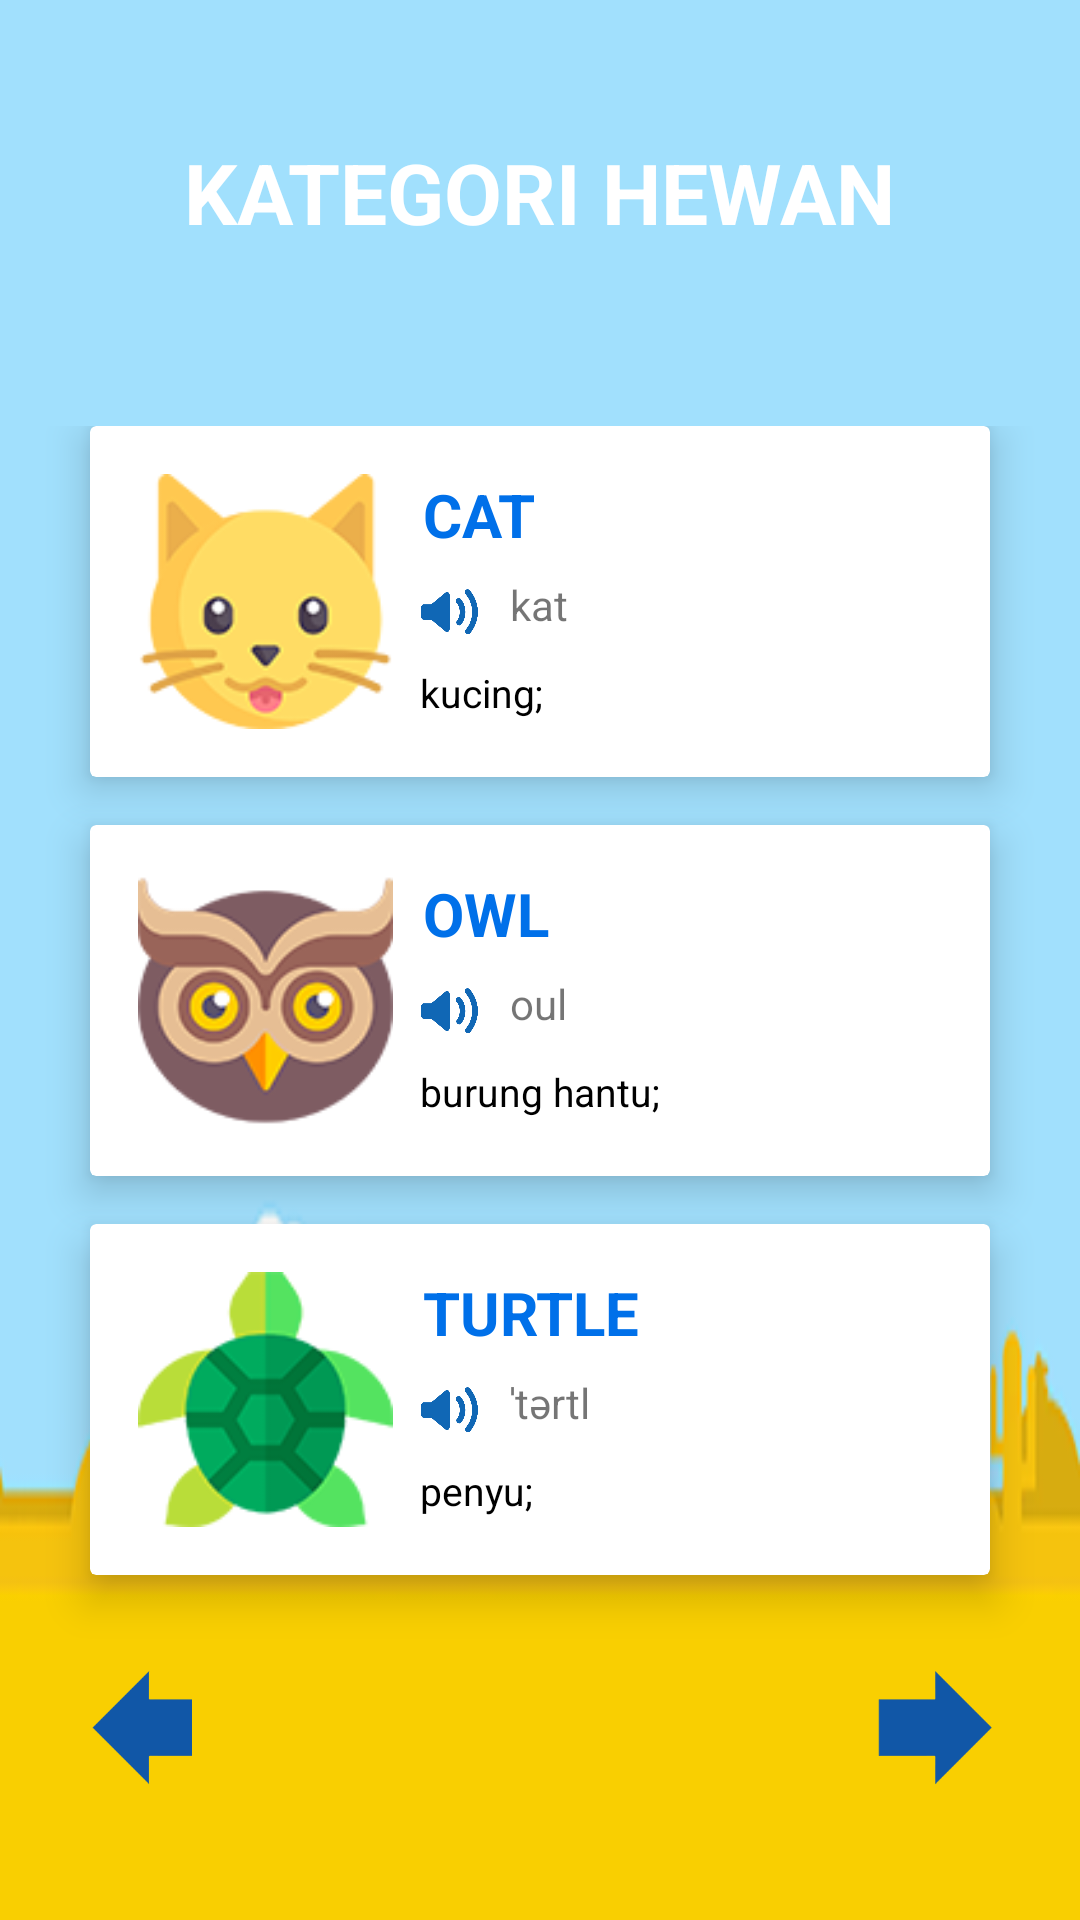

Screen size 1080px x 1920px. Icon name, then its box in pixels as box=[x1, y1, x2, y2]:
audio: box=[421, 589, 478, 634], box=[421, 988, 478, 1033], box=[421, 1387, 478, 1432]
panahnext: box=[878, 1671, 992, 1784]
